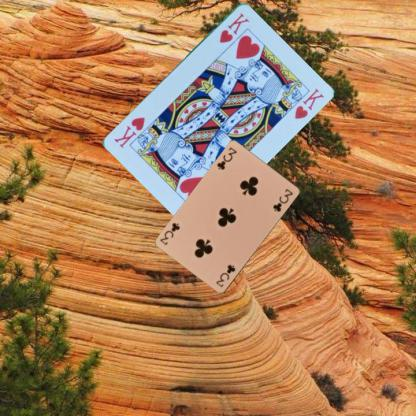3c: (214, 144, 238, 172), (213, 262, 237, 289)
Kh: (216, 10, 250, 44)
